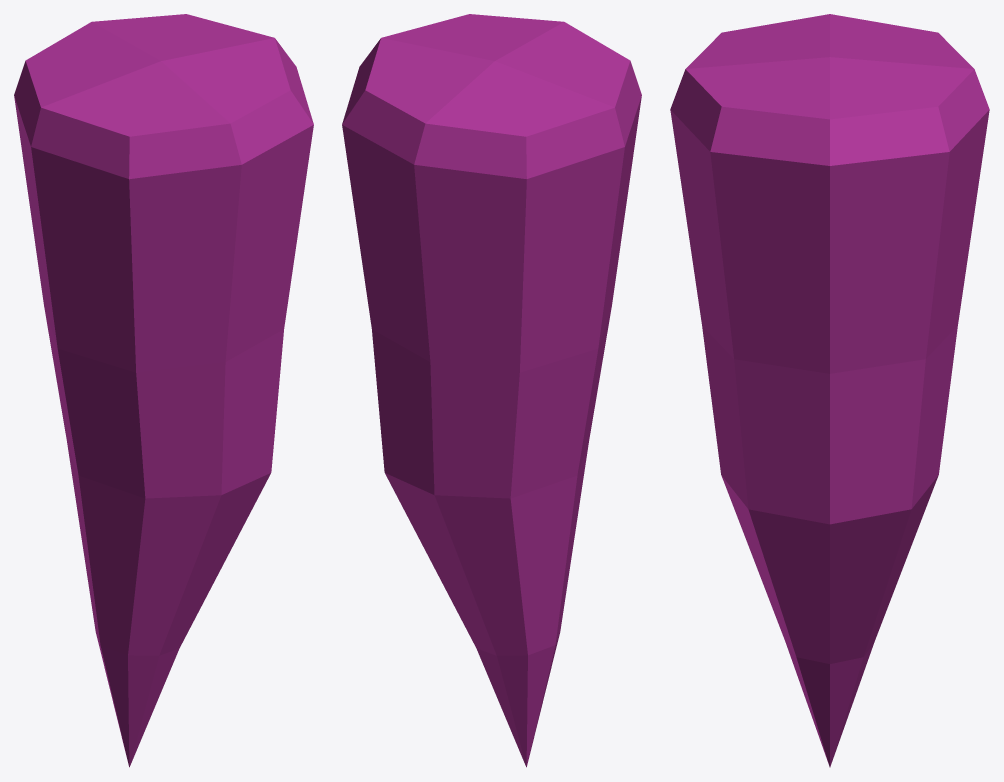
File: estalactite.fbx
The picture shows the model from 3 angles, left to right: view 1: azimuth 30°, elevation 25°; view 2: azimuth 150°, elevation 25°; view 3: azimuth 270°, elevation 25°; orthographic projection. The views are drawn at different scales.
Visible parts, largest first — view 1: estalactite; view 2: estalactite; view 3: estalactite.
Boxes of the visible parts, x1,y1,x2,y2 form: estalactite: (14, 14, 313, 767); estalactite: (342, 14, 641, 767); estalactite: (670, 14, 989, 767).
Bounding box in the file's own units: 0.467 × 1.18 × 0.4679.
